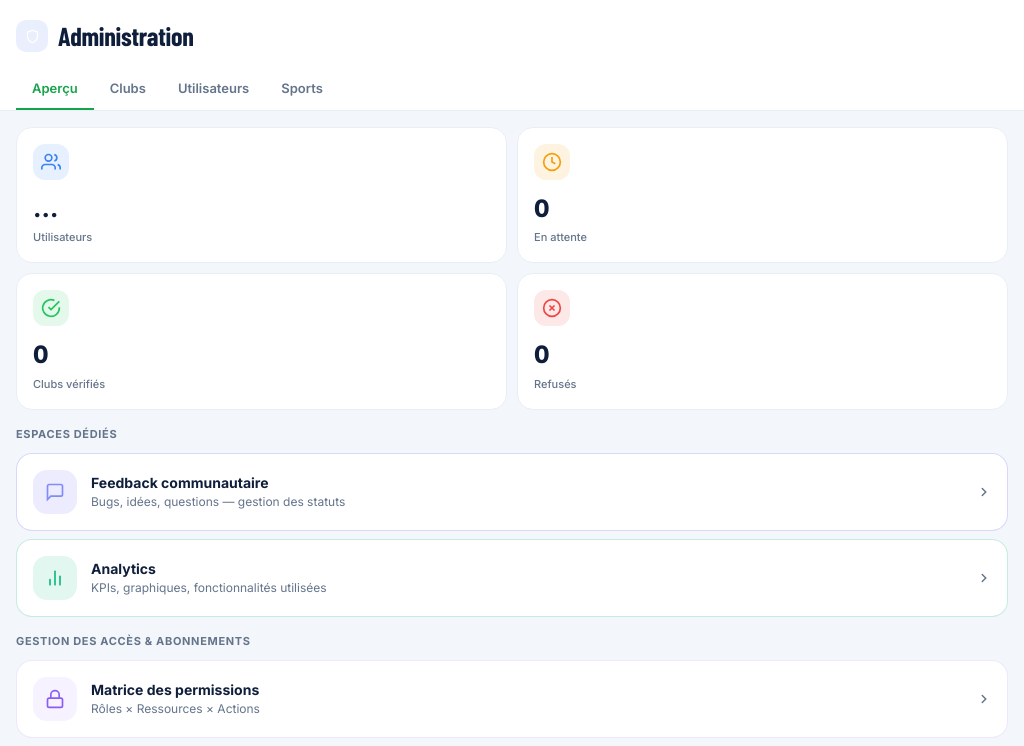
Test case: AdminPage — onglet Clubs › affiche les actions inline quand on clique Examiner
This screenshot has width=1024, height=746.
Click the button "0 Clubs vérifiés" at point(51, 308), box [16, 273, 507, 410]
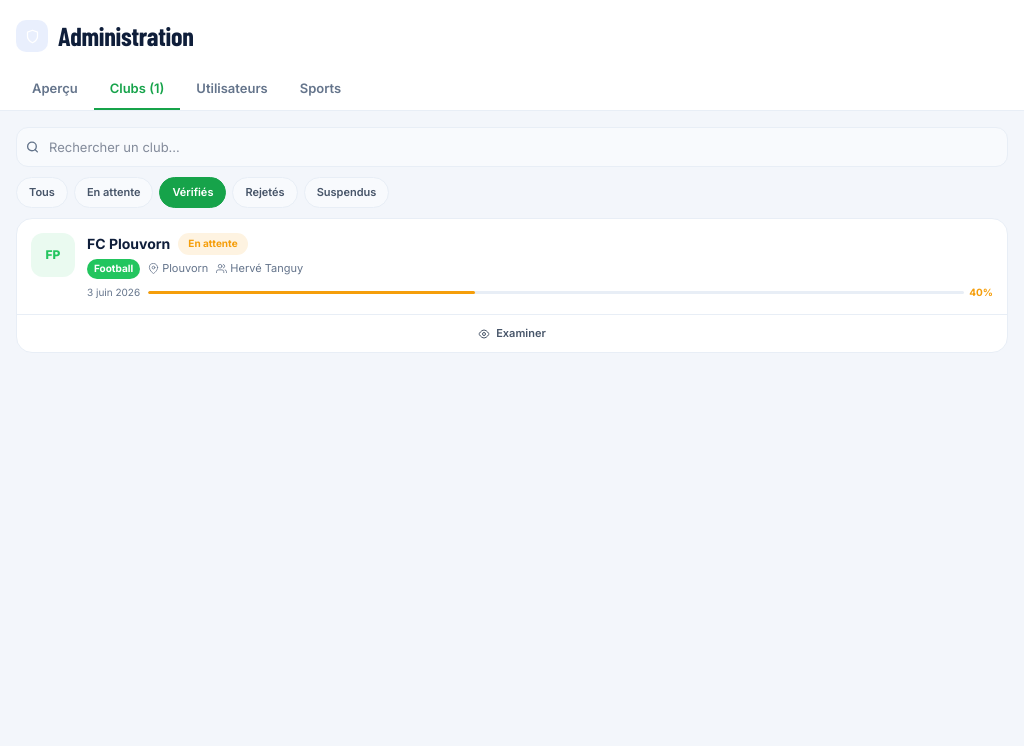
Result: the text "FC Plouvorn" is shown at [87, 233, 170, 255]
Click the button "Examiner" at point(512, 334), box [17, 315, 1007, 352]
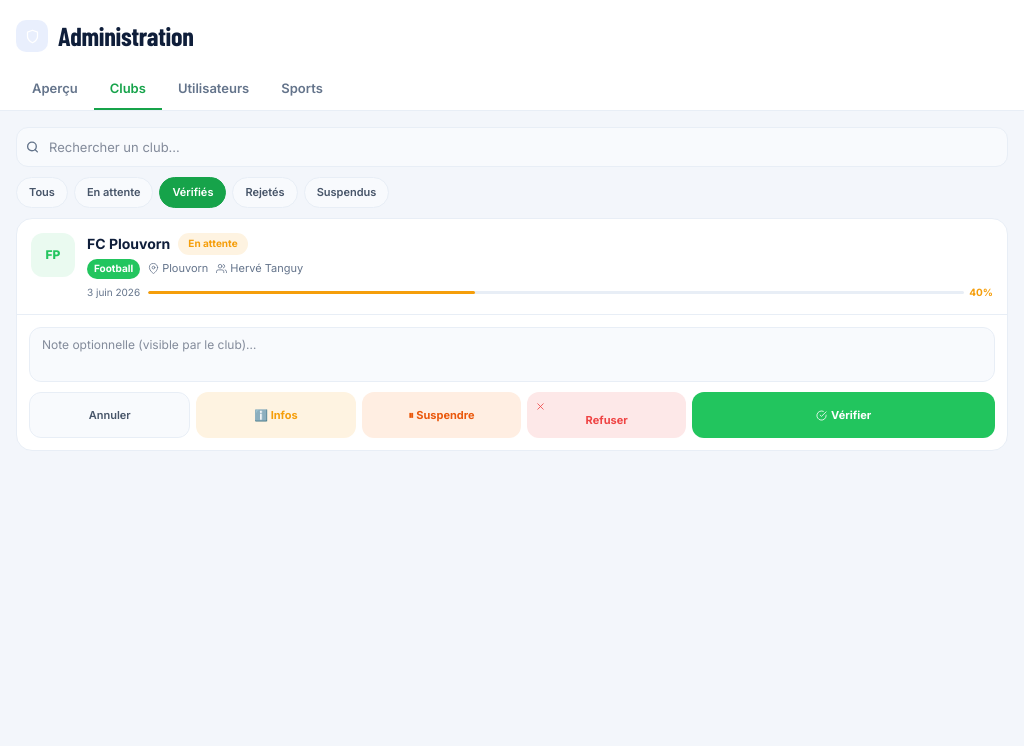
Result: the button "Vérifier" is shown at [692, 392, 995, 438]
Result: the button "Refuser" is shown at [527, 392, 686, 438]
Result: the button "ℹ️ Infos" is shown at [196, 392, 356, 438]
